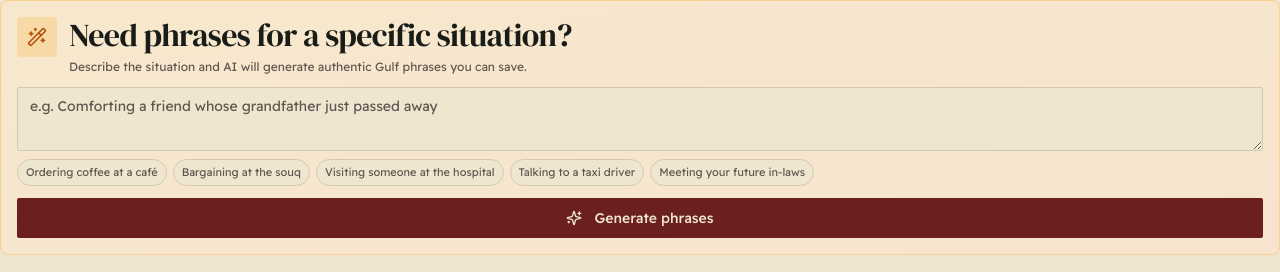
Test: asking for phrases › offers situations to start from
Click the button "Bargaining at the souq" at (241, 172), box [173,159,310,186]
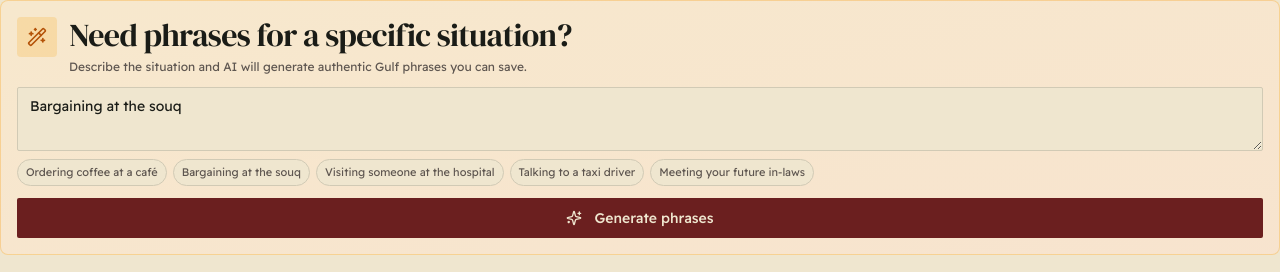
Expected: the text box with placeholder "e.g. Comforting a friend whose grandfather just passed away" holds "Bargaining at the souq", [17,87,1263,151]
